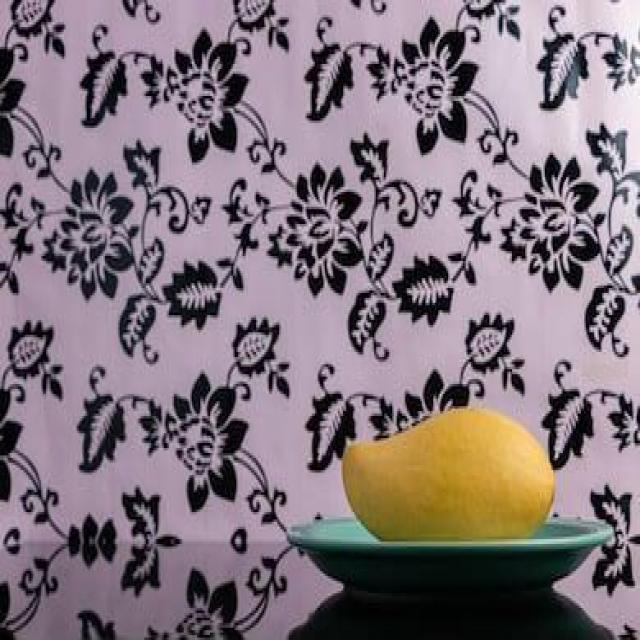mango: (342, 413, 559, 537)
